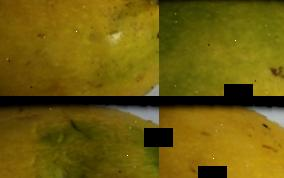PartiallyRipe: (159, 0, 284, 96)
Ripe: (0, 0, 159, 96), (0, 96, 159, 178), (159, 96, 284, 178)
